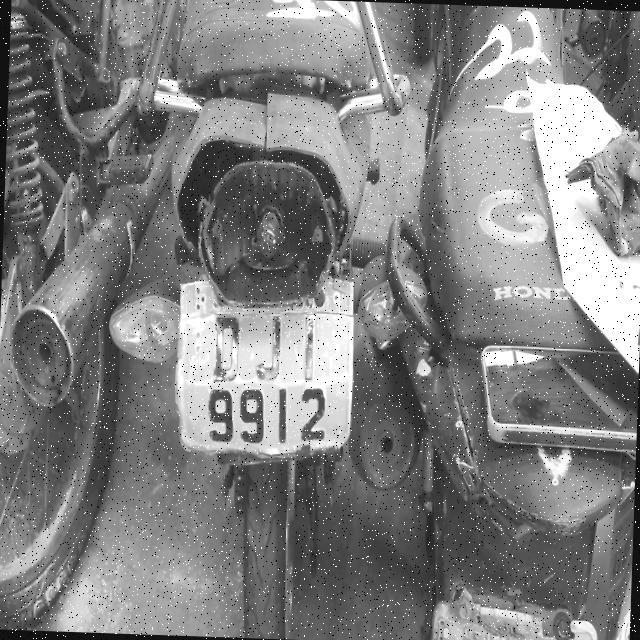Caractere: (211, 315, 241, 385), (254, 312, 282, 382), (204, 386, 236, 446), (238, 386, 266, 446), (299, 385, 327, 443), (302, 314, 314, 382), (276, 386, 288, 446)
